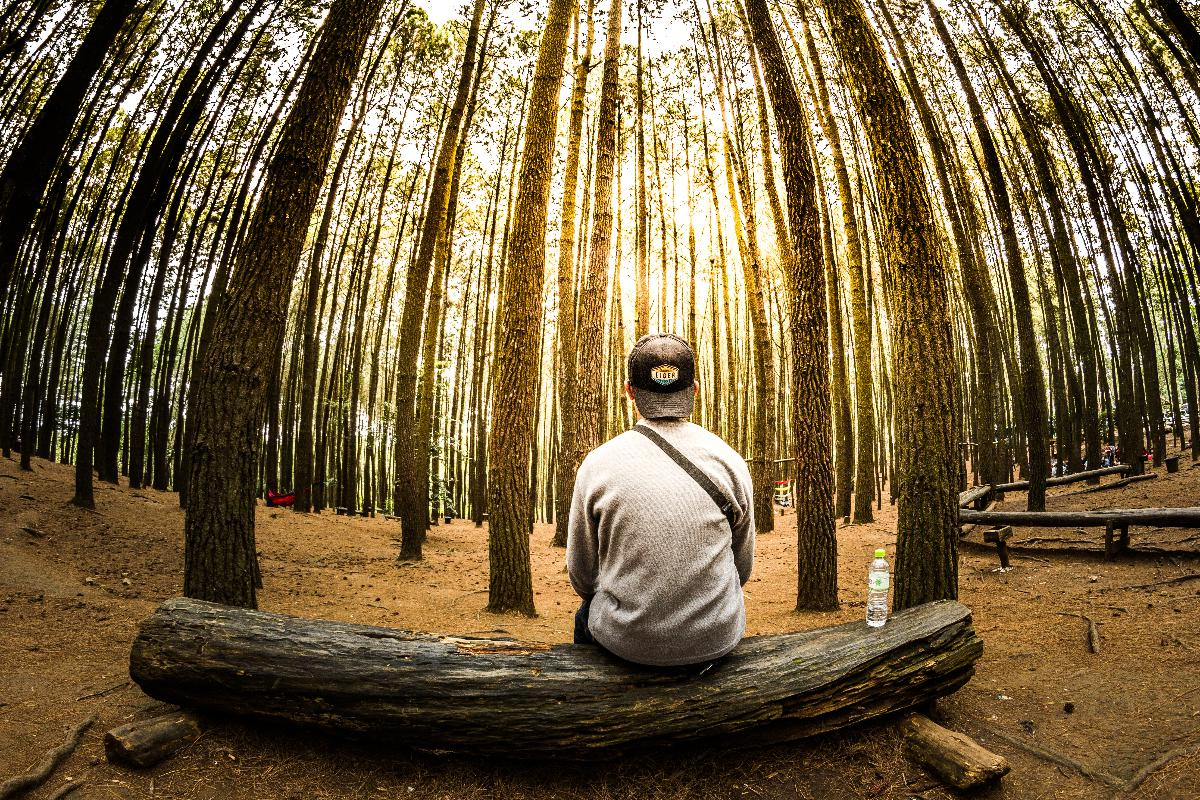Person: (559, 326, 759, 680)
